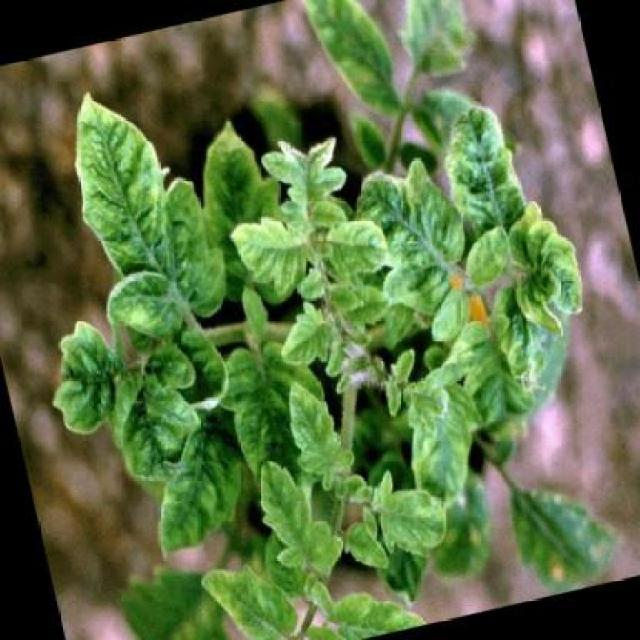Healthy Leaf: (47, 61, 225, 354), (349, 133, 496, 322), (424, 94, 551, 254), (244, 439, 351, 596), (395, 384, 493, 518), (225, 189, 326, 309), (358, 458, 459, 570), (197, 548, 309, 640), (306, 198, 405, 300)
